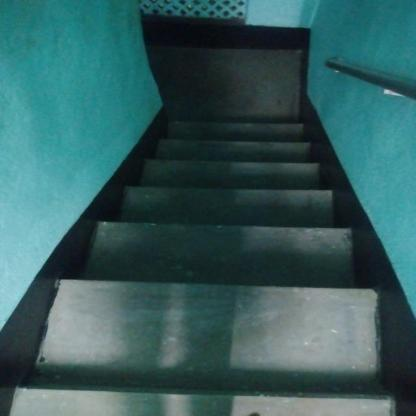stair: (59, 86, 349, 416)
